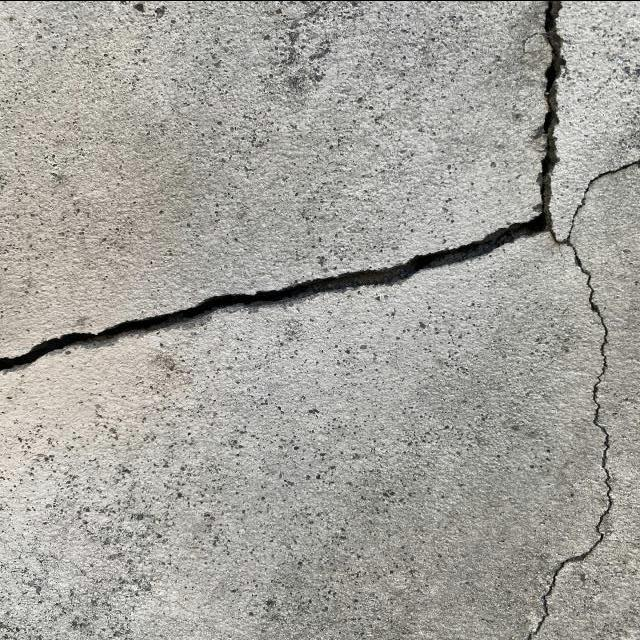SurfaceCrack: (1, 173, 639, 415)
